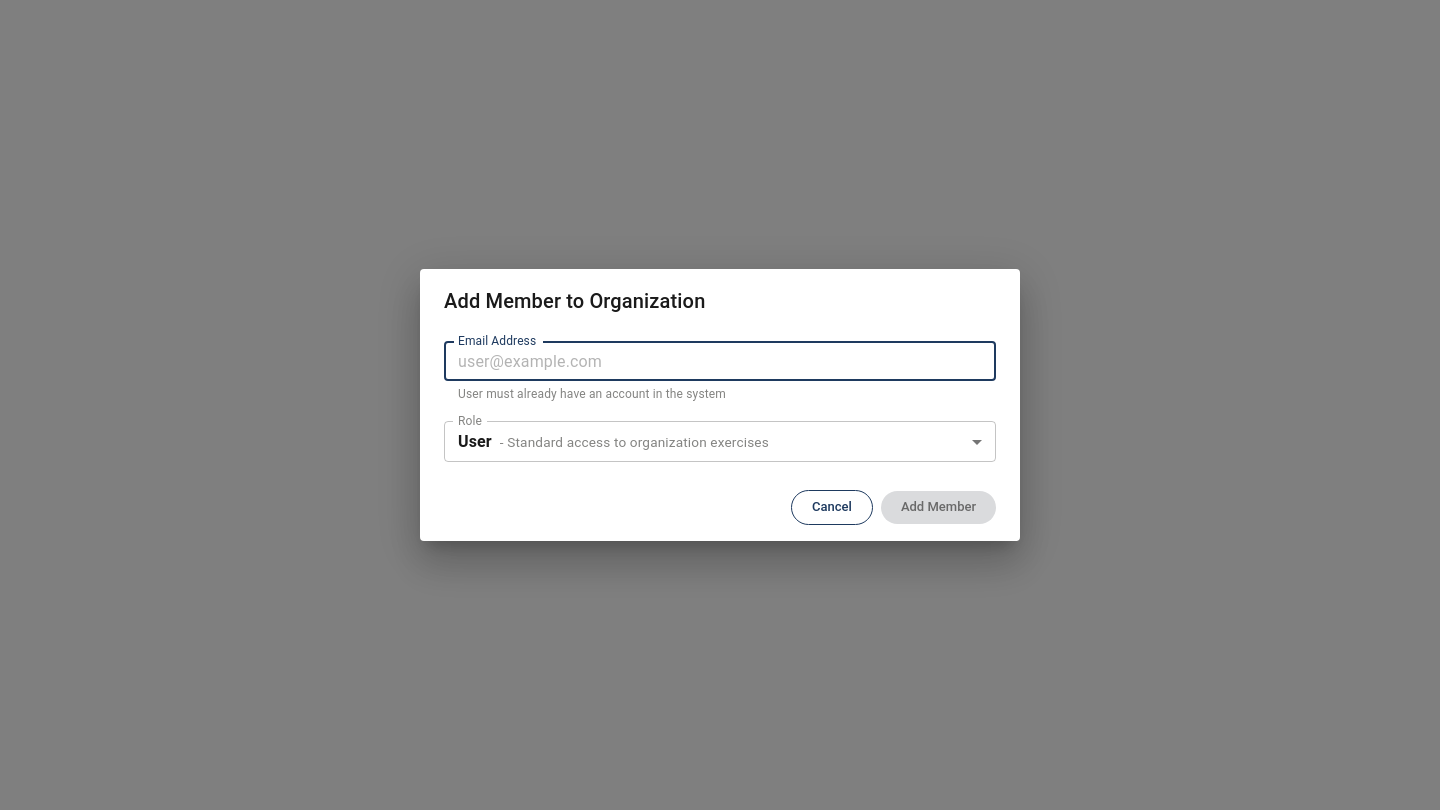
Scenario: AddMemberDialog › Form Validation › allows closing error alert
This screenshot has width=1440, height=810.
Trigger validation error with invalid email format
Type "invalidemail" into the field labelled "Email Address" at (720, 361), box x1=444 y1=341 x2=996 y2=381
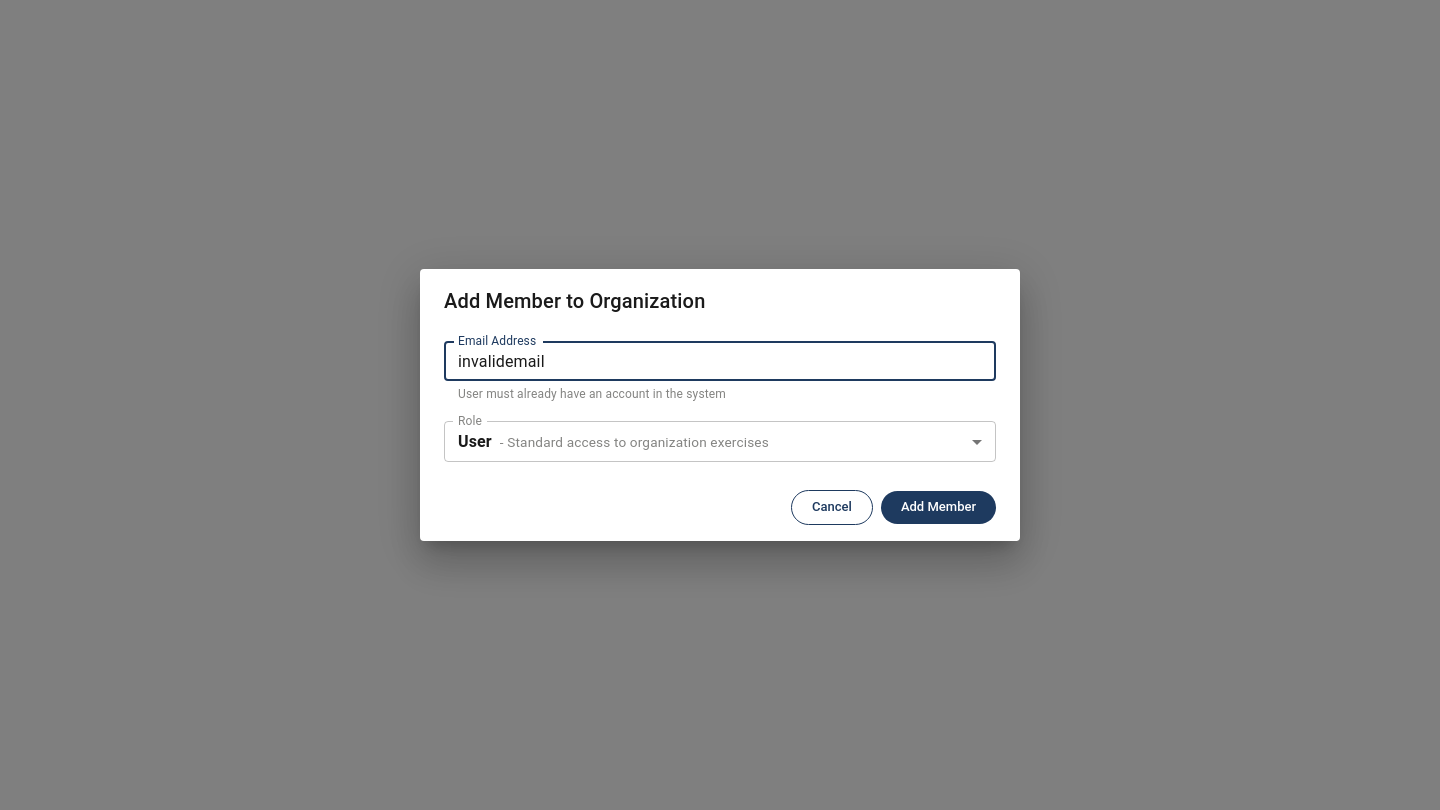
Click the button "Add Member" at (938, 508), box x1=881 y1=491 x2=996 y2=524
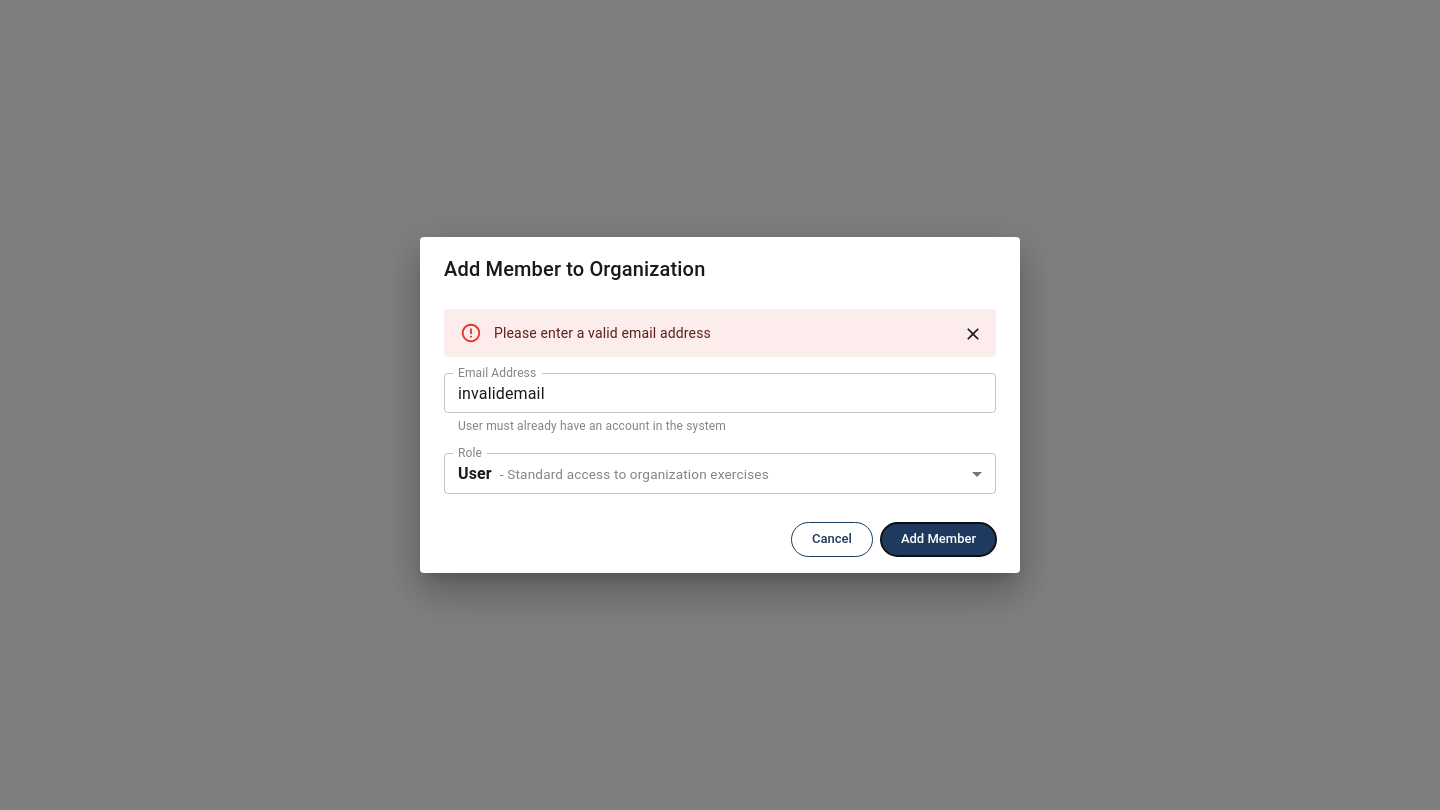
Result: the text "Please enter a valid email address" is shown at x1=494 y1=325 x2=711 y2=341
Close the alert
Click the button named "close" at (973, 334), box x1=958 y1=319 x2=988 y2=349
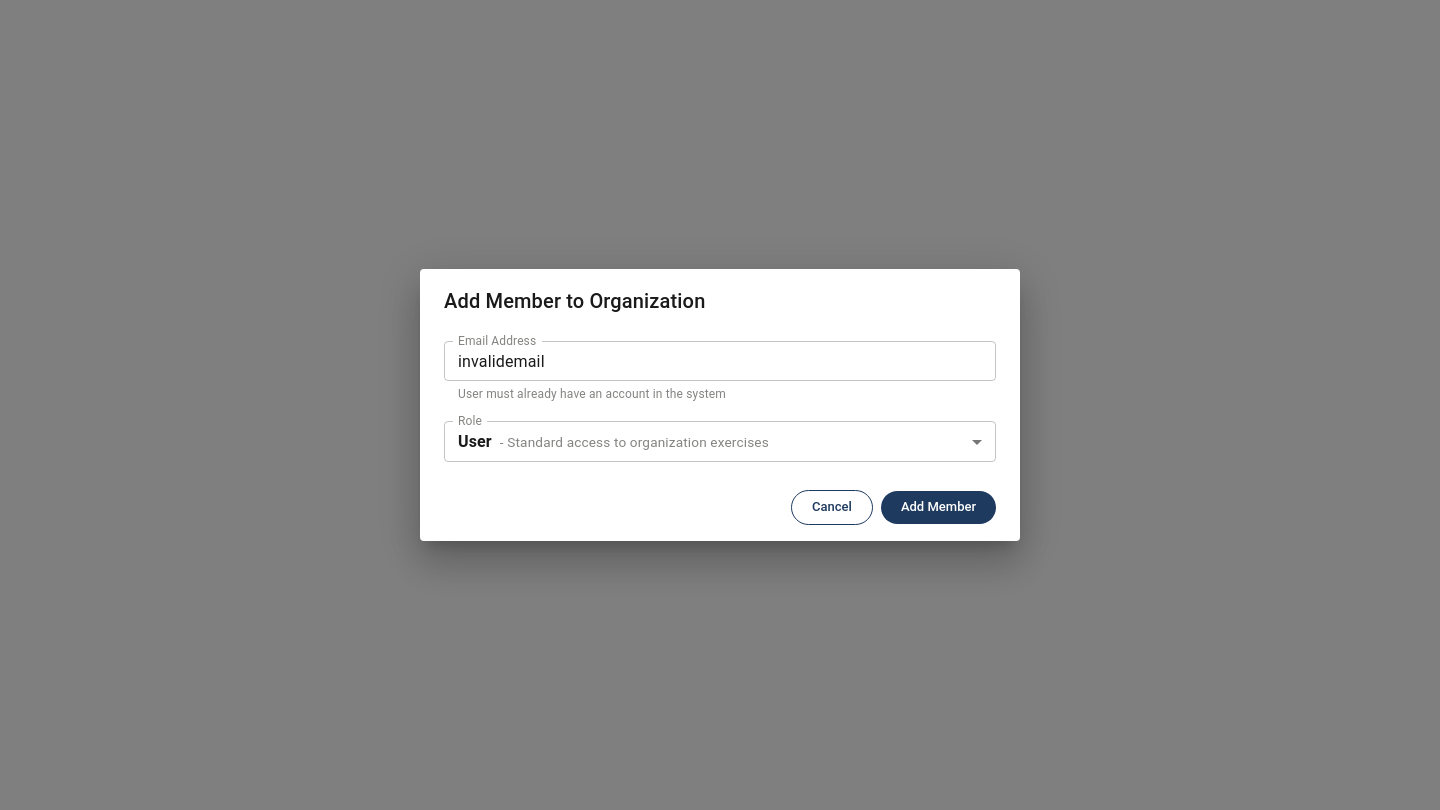
Result: the text "Please enter a valid email address" is gone
